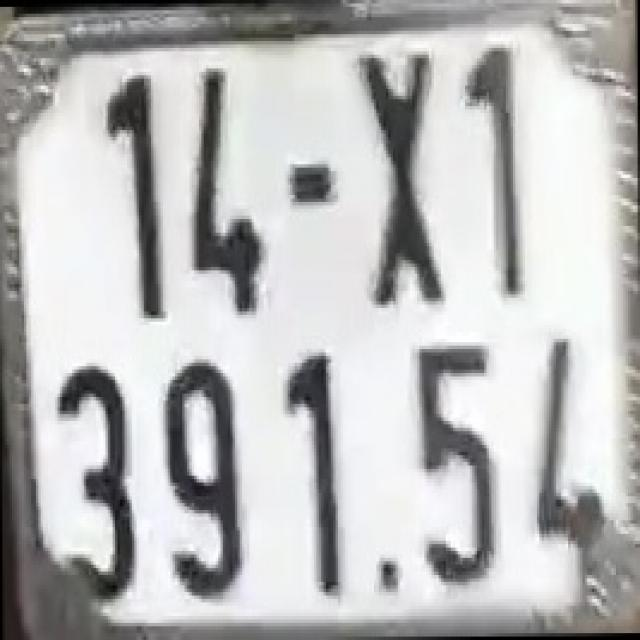1: (96, 62, 175, 325), (278, 342, 355, 599), (460, 38, 535, 301)
3: (50, 356, 142, 602)
4: (185, 58, 273, 322), (528, 328, 612, 582)
5: (410, 332, 503, 592)
9: (158, 352, 249, 602)
X: (354, 41, 450, 308)
